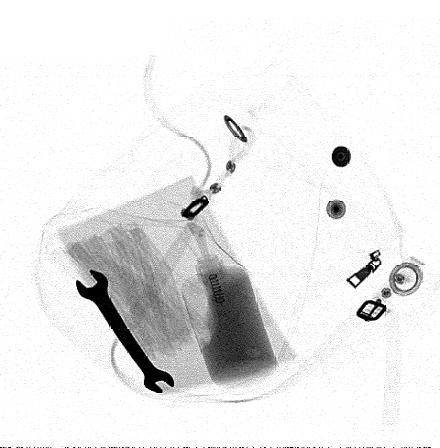Wrench: (75, 269, 176, 396)
